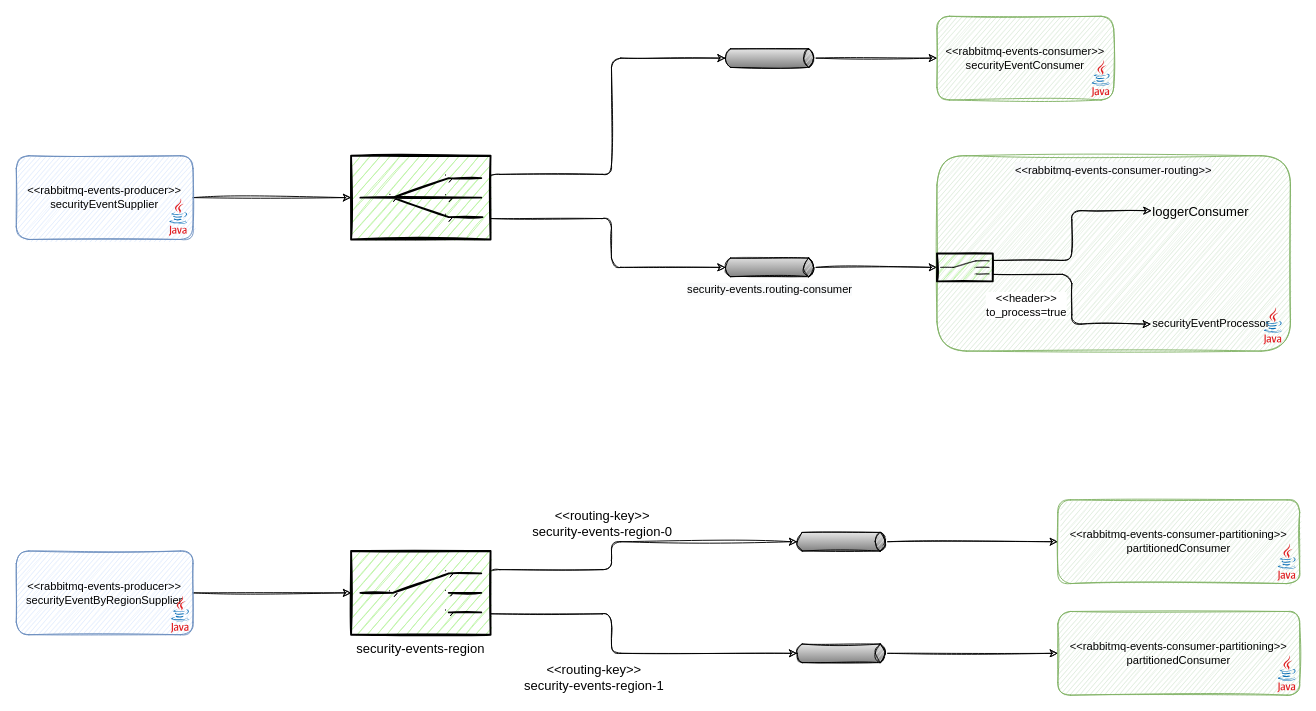
Some shapes in this 1316 by 711 pixel diagram are drawn without their labels. The shapes that lost their labels are listed below. From the top down, each one's centre as x and y in pixels, then its label:
the point at 769,57: security-events.simple-consumer
the point at 420,197: security-events
the point at 841,541: security-events-region.partitioning-consumer-0
the point at 841,653: security-events-region.partitioning-consumer-1
